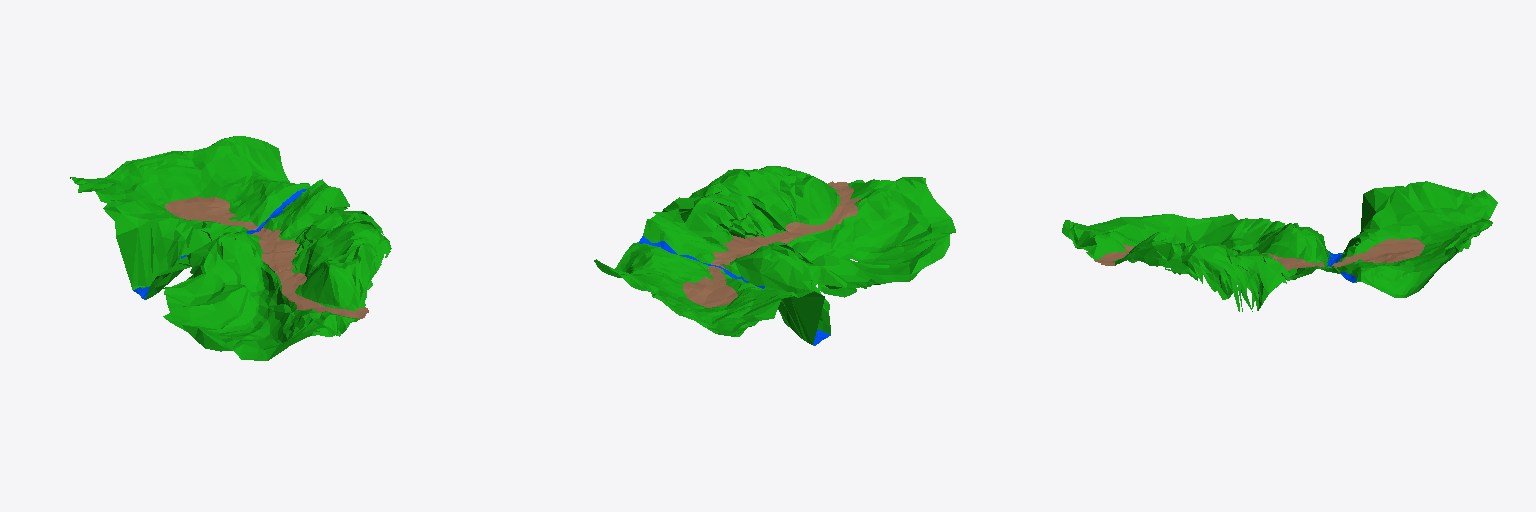
The model's file is landscape.obj.
The picture shows the model from 3 angles: view 1: azimuth 30°, elevation 25°; view 2: azimuth 150°, elevation 25°; view 3: azimuth 270°, elevation 25°; orthographic projection.
Visible parts, largest first — view 1: hand_:landscape_landscape_landscape_Level_Geo_5; view 2: hand_:landscape_landscape_landscape_Level_Geo_5; view 3: hand_:landscape_landscape_landscape_Level_Geo_5.
Boxes of the visible parts, x1,y1,x2,y2 form: hand_:landscape_landscape_landscape_Level_Geo_5: [70, 136, 391, 360]; hand_:landscape_landscape_landscape_Level_Geo_5: [594, 166, 955, 345]; hand_:landscape_landscape_landscape_Level_Geo_5: [1062, 181, 1497, 311].
Bounding box in the file's own units: 144 × 48.72 × 233.